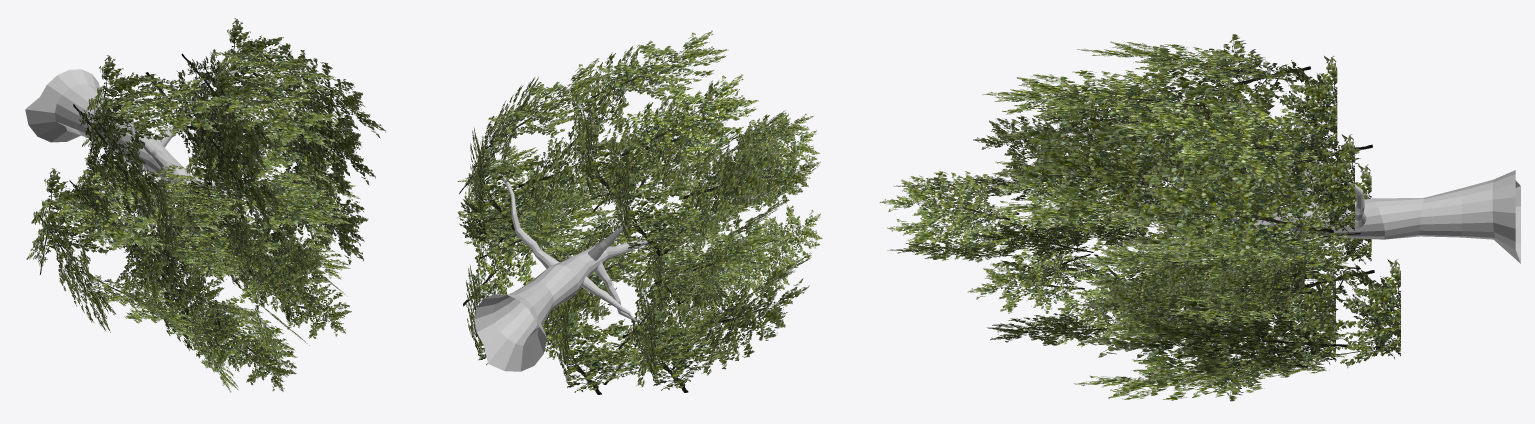
The model's file is tree_Noah.obj.
3 renders of one model, left to right at view 1: azimuth 30°, elevation 25°; view 2: azimuth 150°, elevation 25°; view 3: azimuth 270°, elevation 25°, orthographic. The views are drawn at different scales.
Visible parts, largest first — view 1: Cylinder.001_Cylinder.000; view 2: Cylinder.001_Cylinder.000; view 3: Cylinder.001_Cylinder.000.
Part boxes in pixels (x1,y1,x2,y2): Cylinder.001_Cylinder.000: [25, 18, 385, 392]; Cylinder.001_Cylinder.000: [457, 30, 822, 394]; Cylinder.001_Cylinder.000: [879, 34, 1520, 401].
Size of the model in its own units: 2418 by 2038 by 3836.
